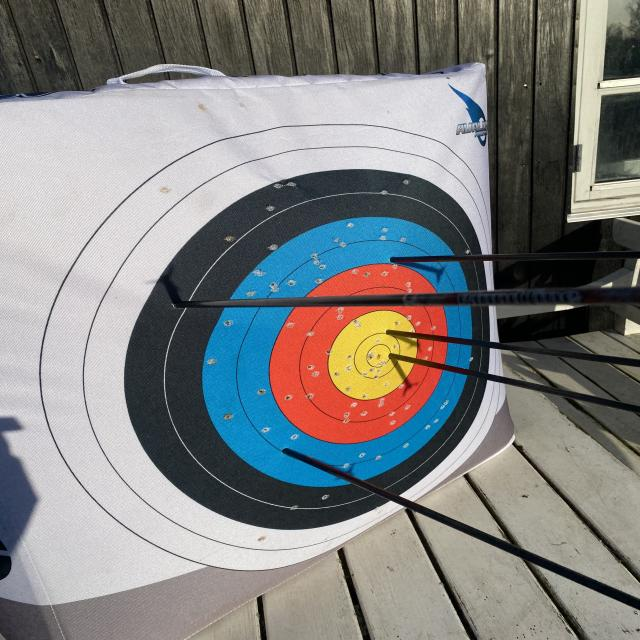Arrow_Black: (164, 293, 194, 321)
Arrow_Blue: (273, 441, 314, 473), (376, 248, 412, 276)
Arrow_Yellow: (379, 319, 404, 347), (382, 351, 413, 369)
